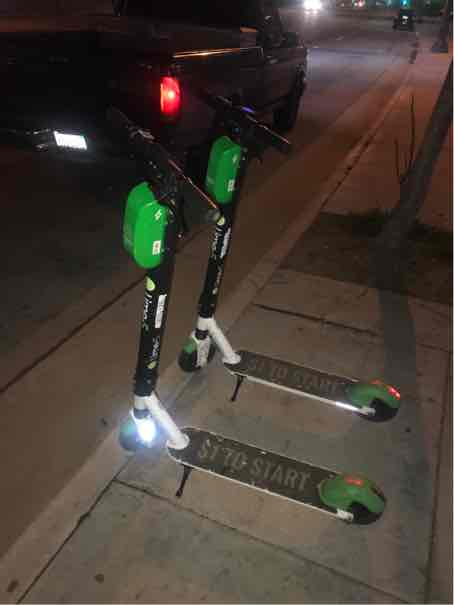too close: (97, 394, 192, 482), (167, 320, 245, 392)
